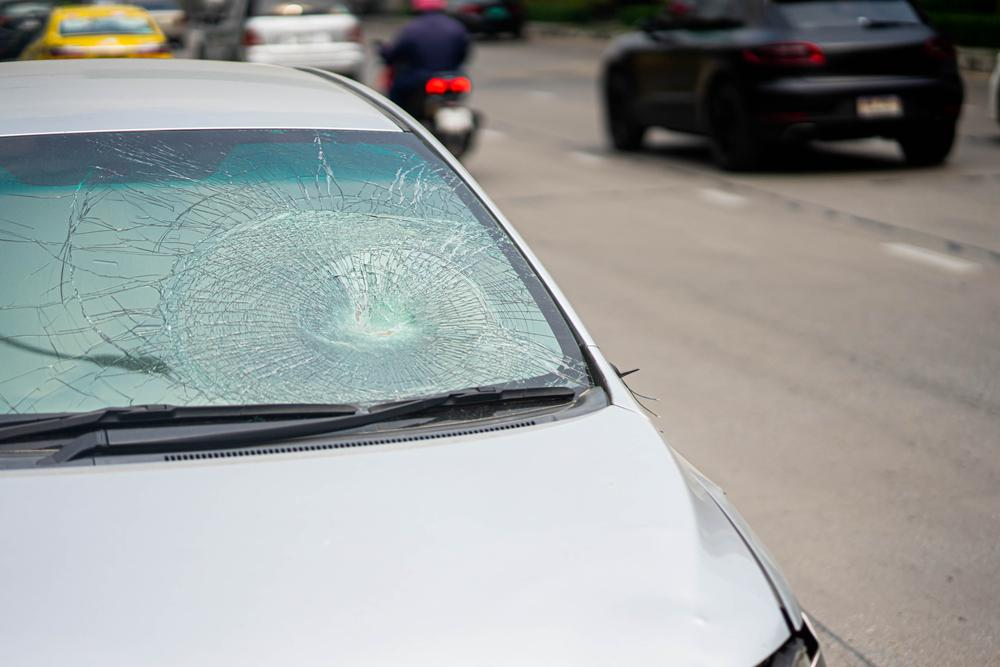glass shatter: (0, 129, 595, 414)
